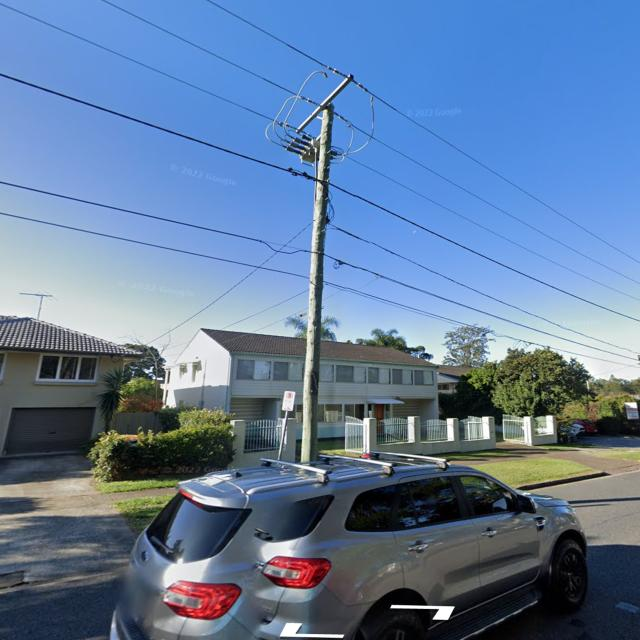HV-switch: (286, 133, 341, 166)
HV-transmission: (278, 66, 369, 137)
crossarm: (293, 73, 355, 134)
timber-pole: (298, 103, 335, 463)
